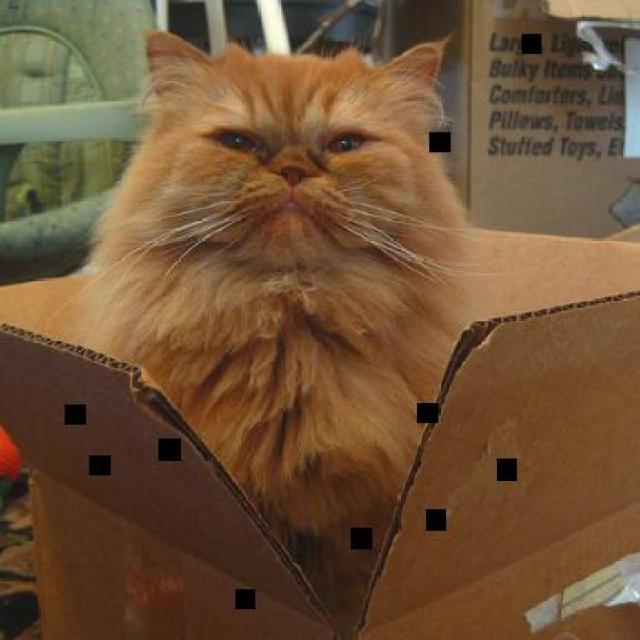unauthorized: (49, 25, 489, 560)
